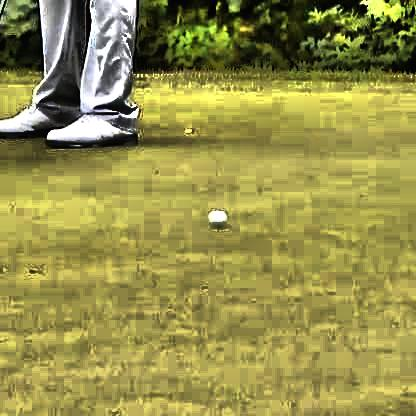golfball: (203, 207, 226, 226)
